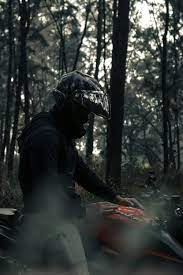helmets: (35, 68, 109, 147)
